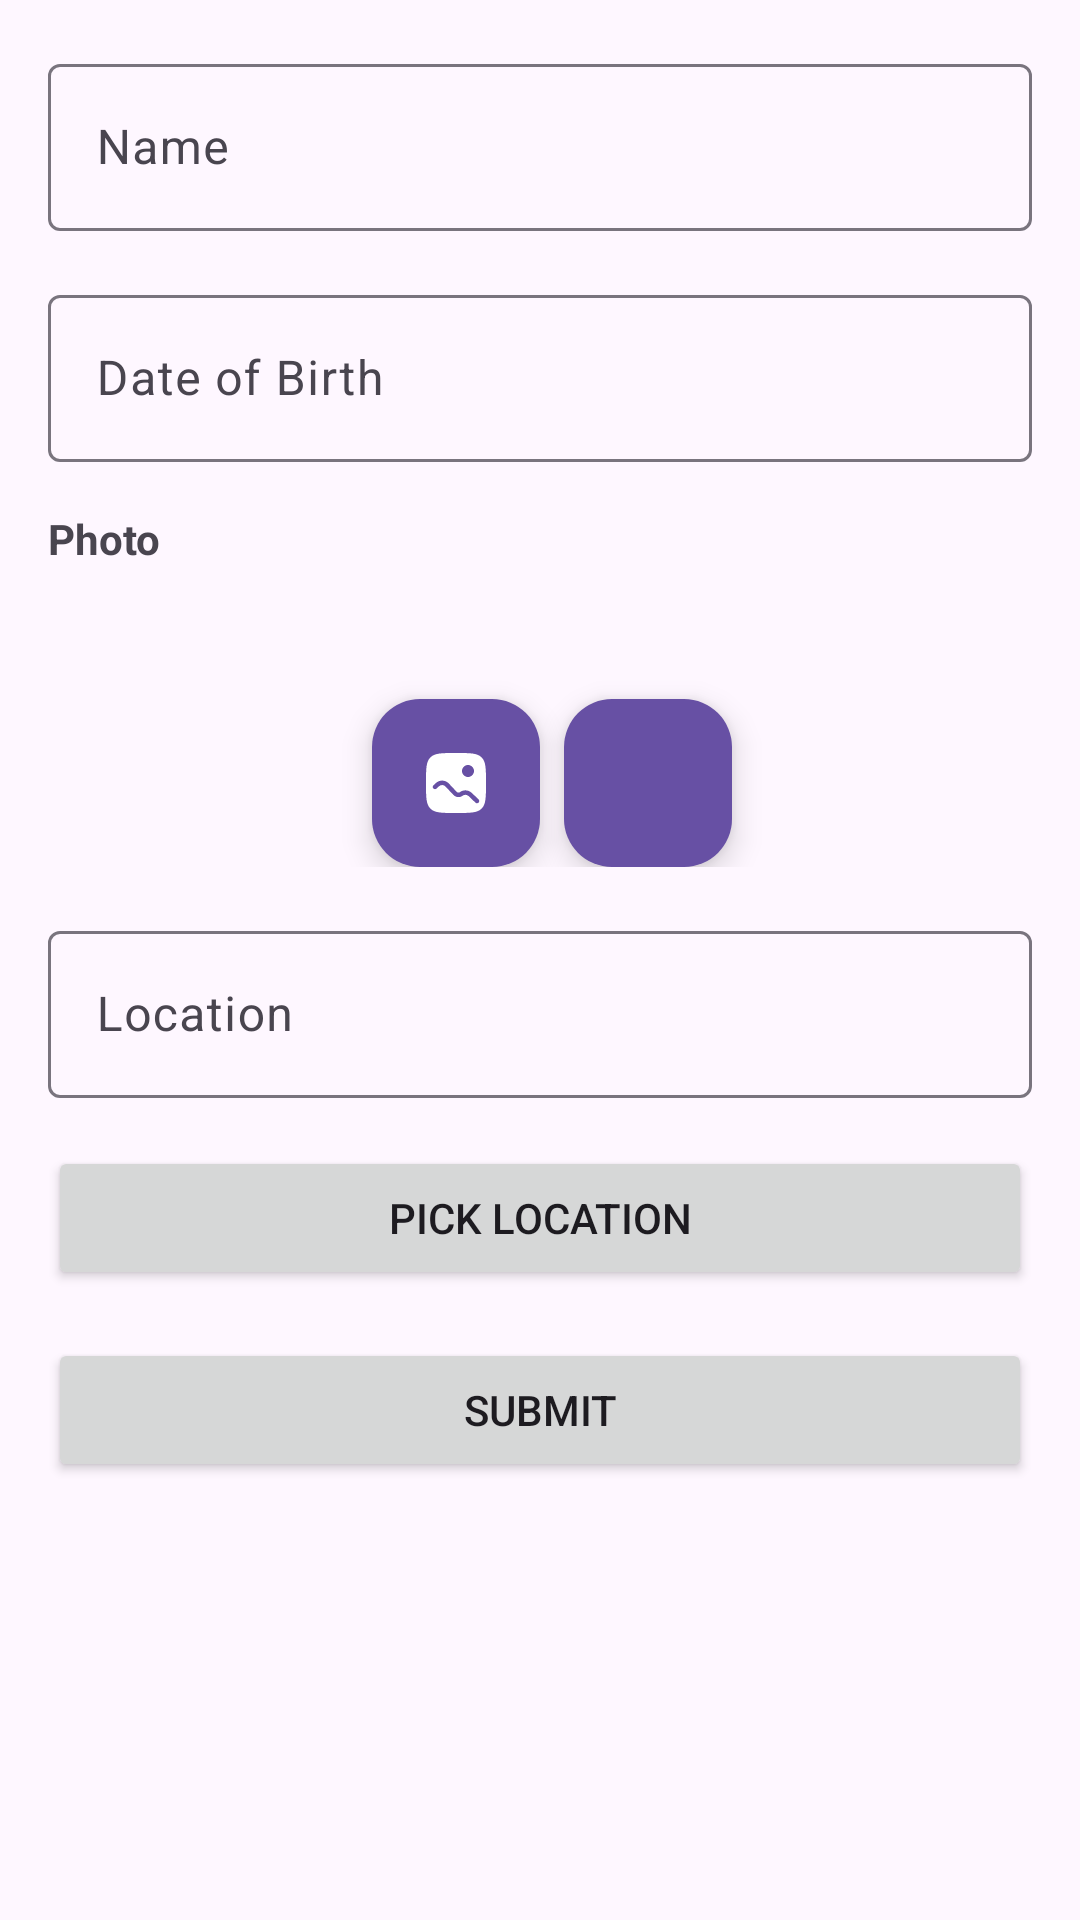

Icon bounding boxes for this 1080px x 1920px phone screenshot, format (x1, y1, x2, y2):
gallery: (372, 699, 540, 867)
